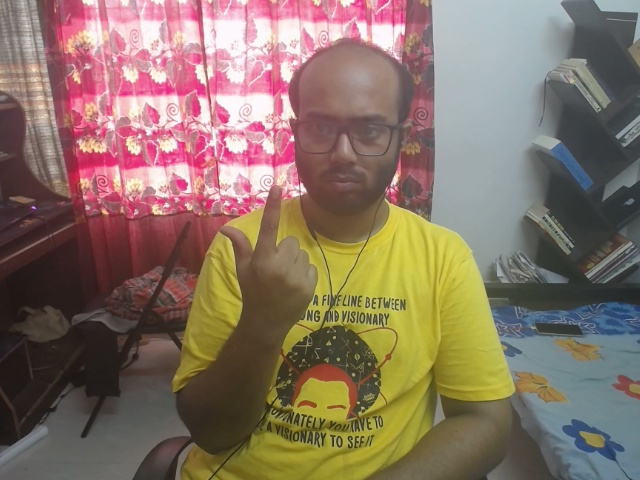seven: (205, 184, 334, 322)
